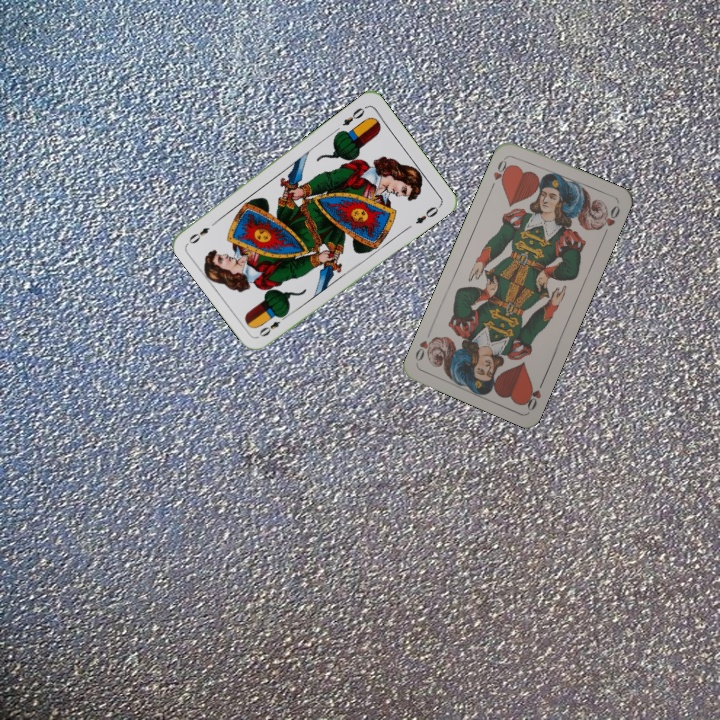EO: (255, 310, 290, 340), (338, 102, 369, 129)
HO: (520, 375, 547, 413), (487, 153, 513, 191)
